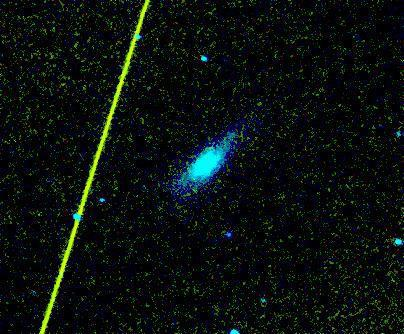star: (90, 103, 120, 133)
